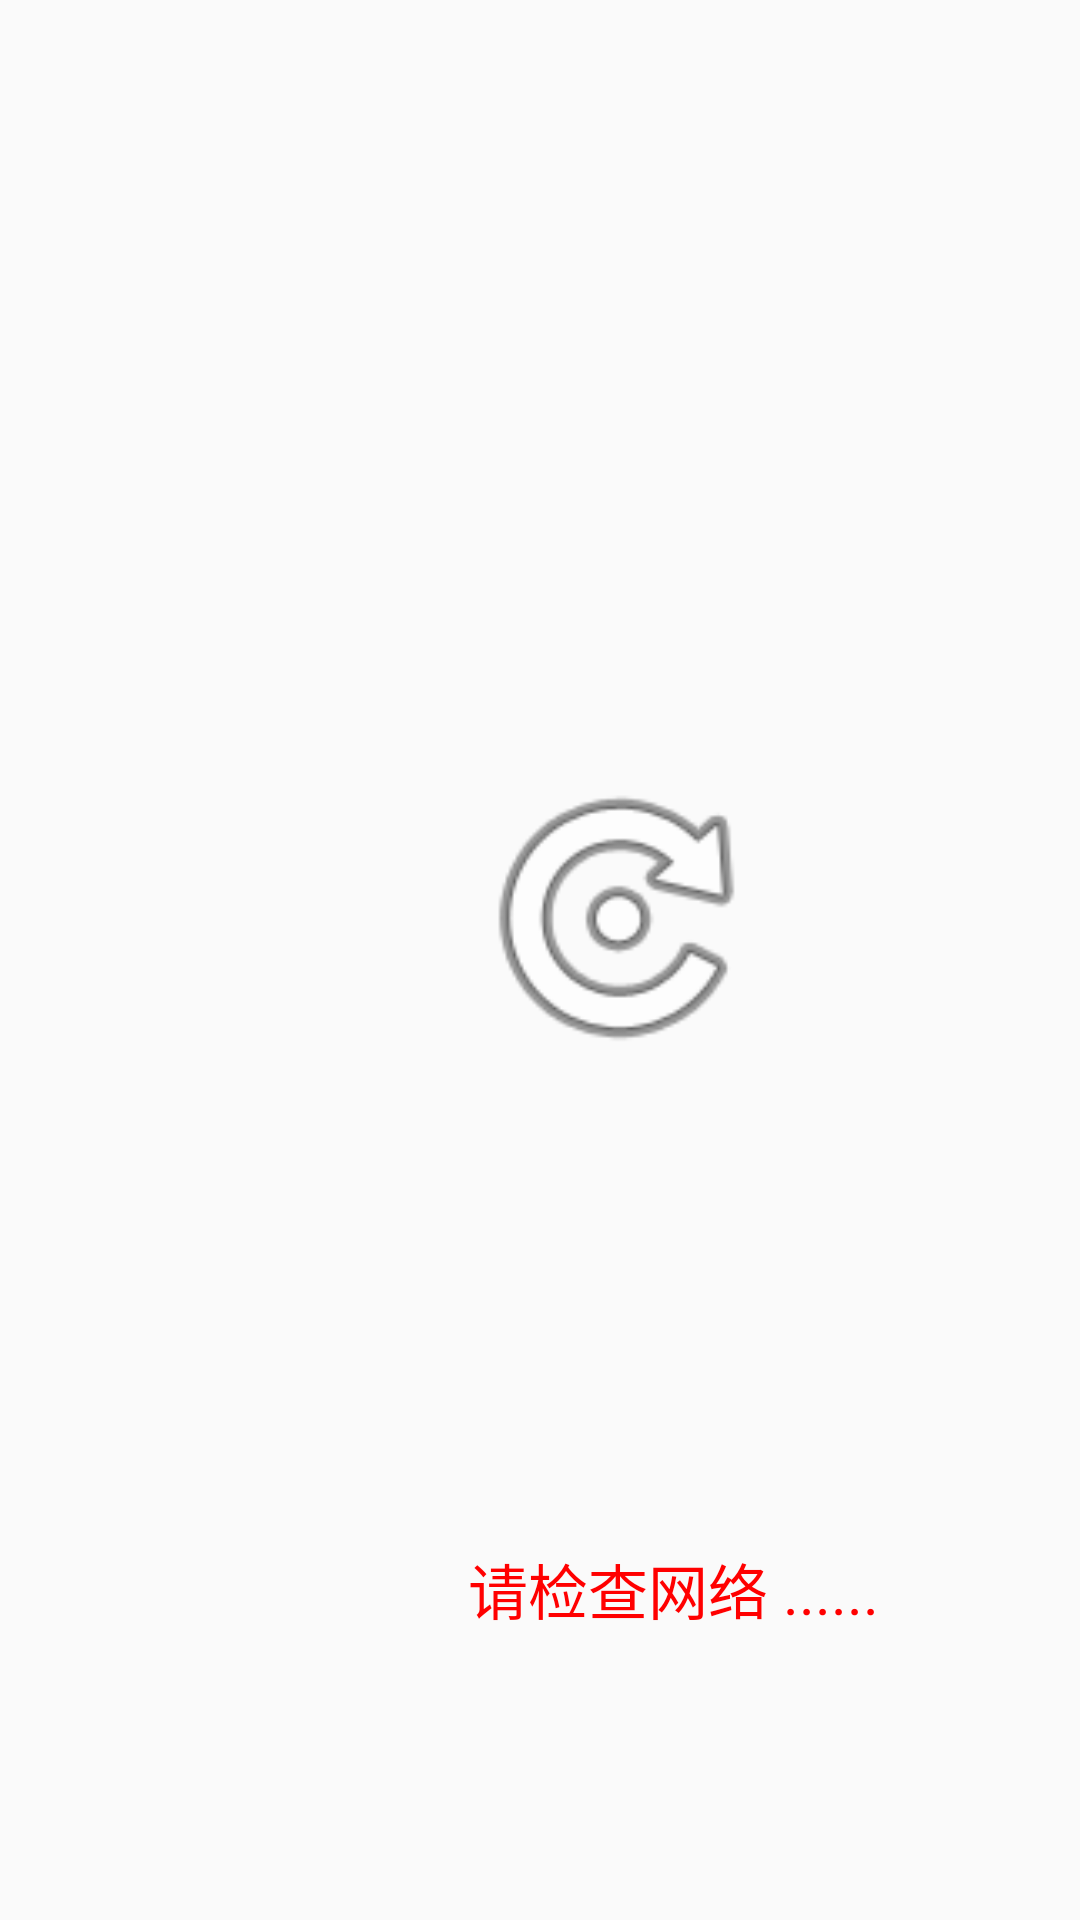

Screen size 1080px×1920px. Icon name, then its center in pixels as point (x, y):
rotate: point (616, 918)
